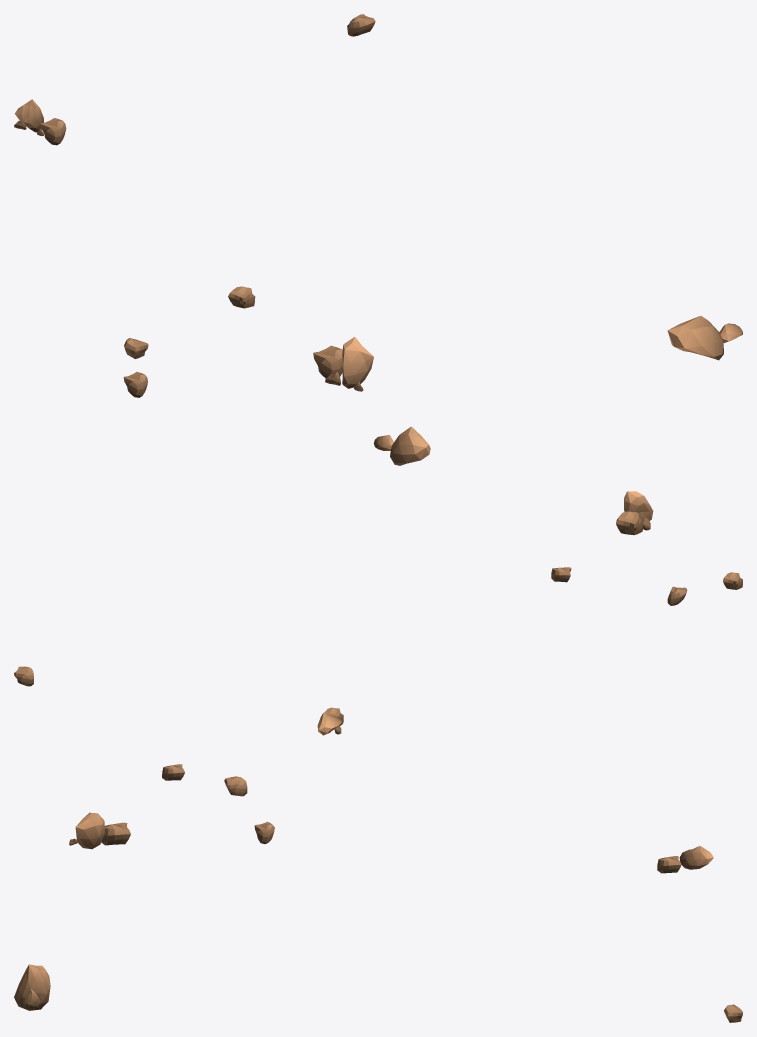
The model's file is stones .fbx.
3 renders of one model, top to bottom at view 1: azimuth 30°, elevation 25°; view 2: azimuth 150°, elevation 25°; view 3: azimuth 270°, elevation 25°, orthographic. The views are drawn at different scales.
Visible parts, largest first — view 1: Cube.565; view 2: Cube.565; view 3: Cube.565.
Boxes of the visible parts, bbox=[...] form: Cube.565: bbox=[14, 14, 742, 397]; Cube.565: bbox=[14, 426, 742, 735]; Cube.565: bbox=[14, 764, 742, 1022].
Bounding box in the file's own units: 109 × 12.91 × 140.
Materials: 1 (1 with a texture image).
